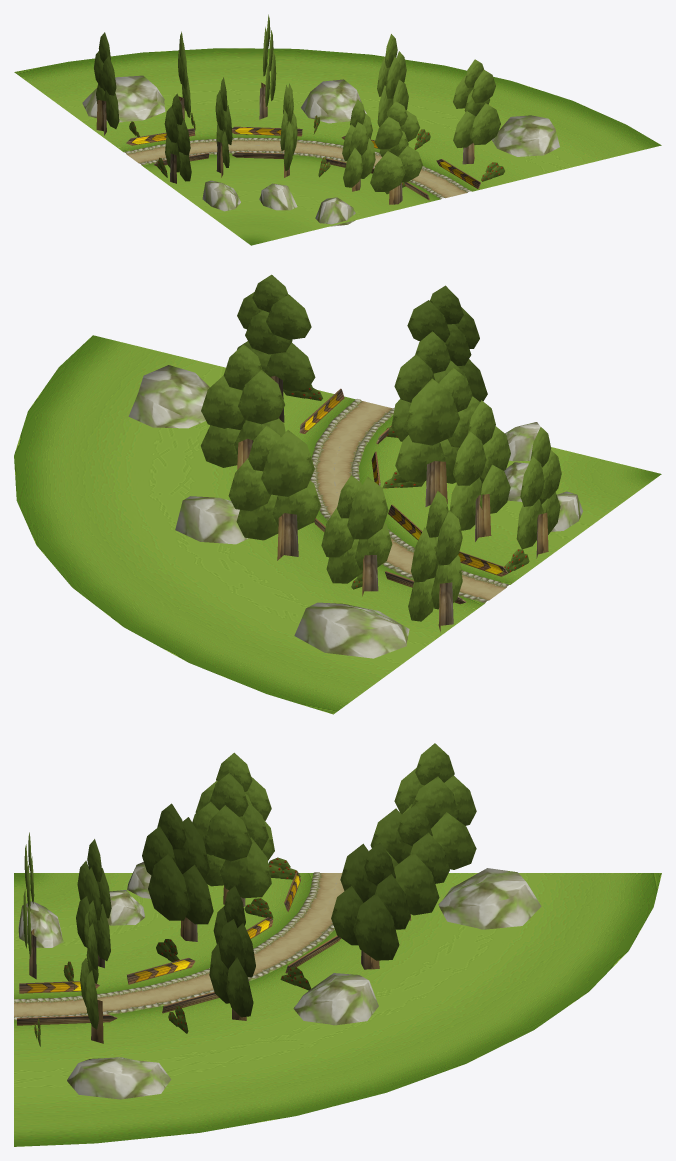
Rendered from ForestRoad01_LeftCurve.FBX.
3 views of the same model, one above another, from view 1: azimuth 30°, elevation 25°; view 2: azimuth 150°, elevation 25°; view 3: azimuth 270°, elevation 25° (orthographic). The views are drawn at different scales.
Parts seen in each view (by area): view 1: Road, Tree (×10), Stone (×6), Fence (×3); view 2: Road, Tree (×10), Stone (×5); view 3: Road, Tree (×10), Stone (×6), Fence (×3).
Boxes of the visible parts, x1,y1,x2,y2 form: Road: (14, 48, 661, 245); Tree (×10): (94, 14, 500, 204); Stone (×6): (82, 75, 559, 226); Fence (×3): (126, 126, 480, 188); Road: (14, 335, 661, 714); Tree (×10): (200, 274, 561, 631); Stone (×5): (128, 365, 582, 658); Road: (14, 872, 661, 1146); Tree (×10): (23, 743, 476, 1043); Stone (×6): (18, 862, 541, 1099); Fence (×3): (17, 958, 195, 1025).
Size of the model in its own units: 10000 by 2536 by 10000.
